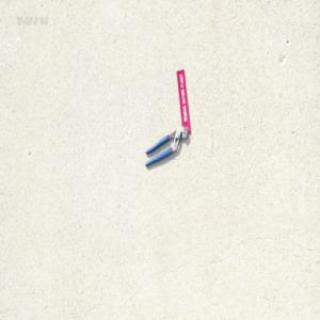LuggageTagtrack_idkeyframe: (176, 68, 191, 132)
Pliertrack_idkeyframe: (144, 125, 186, 167)
